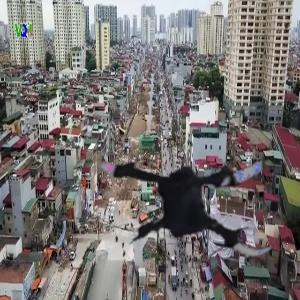drone: (98, 92, 298, 292)
